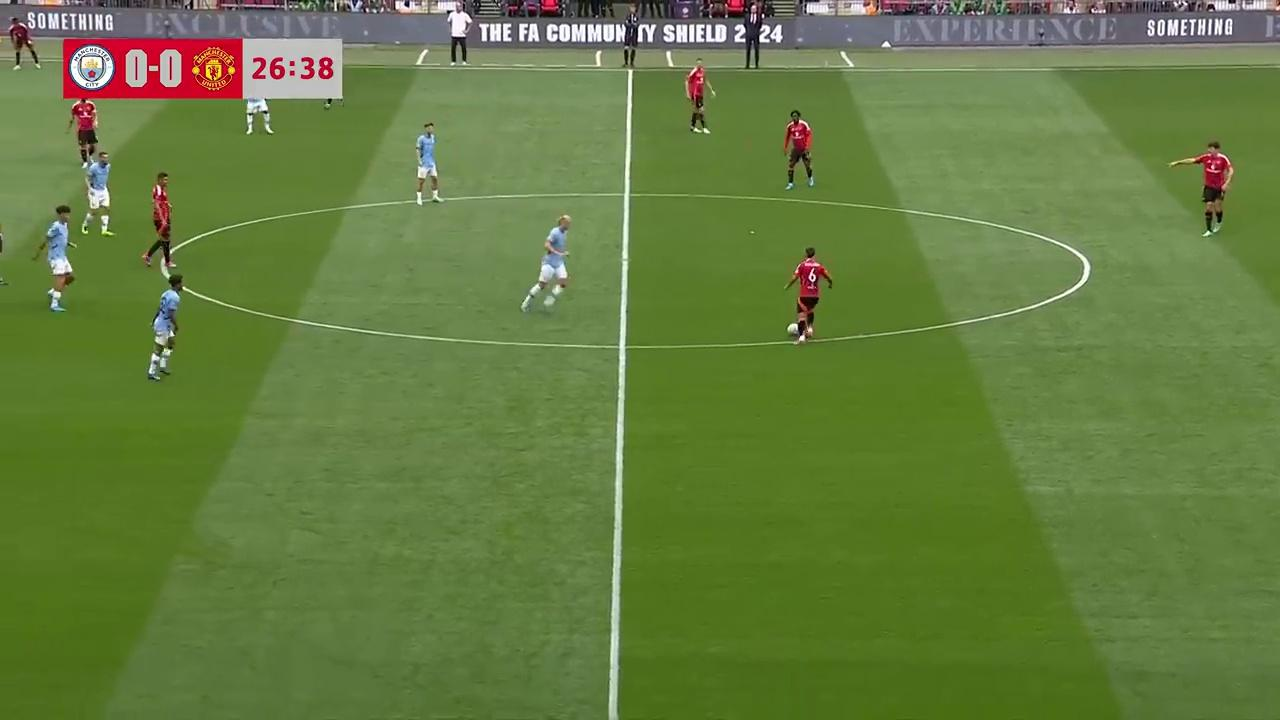ball: (786, 319, 799, 335)
player: (520, 212, 571, 314), (32, 204, 78, 311), (785, 246, 833, 343), (1190, 139, 1234, 236), (146, 271, 183, 381), (80, 148, 114, 236), (144, 174, 175, 268), (782, 110, 814, 190), (415, 120, 443, 206), (684, 60, 715, 135), (68, 97, 99, 169), (244, 80, 274, 136), (10, 16, 41, 70), (0, 216, 9, 291)
